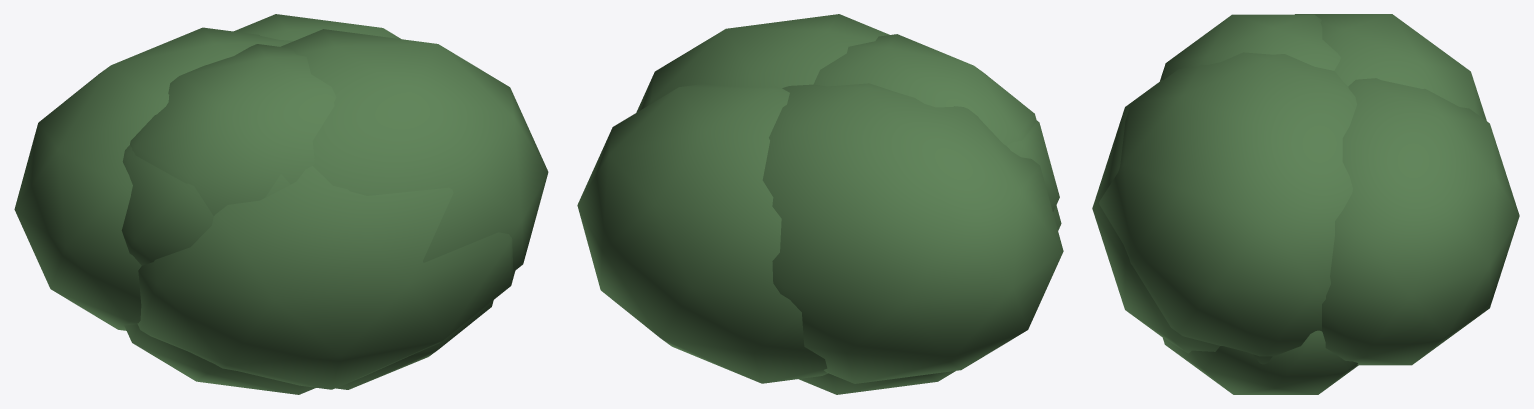
Rendered from bush_v6.glb.
3 renders of one model, left to right at view 1: azimuth 30°, elevation 25°; view 2: azimuth 150°, elevation 25°; view 3: azimuth 270°, elevation 25°, orthographic. The views are drawn at different scales.
Visible parts, largest first — view 1: BushLobe_8, BushLobe_4, BushLobe_2, BushLobe_6, BushLobe_5, BushLobe_0, BushLobe_10, BushLobe_1; view 2: BushLobe_2, BushLobe_10, BushLobe_4, BushLobe_6, BushLobe_0, BushLobe_5; view 3: BushLobe_4, BushLobe_10, BushLobe_2, BushLobe_1, BushLobe_6, BushLobe_8.
Boxes of the visible parts, <box> form: BushLobe_8: <box>137,166,515,389</box>; BushLobe_4: <box>280,29,548,271</box>; BushLobe_2: <box>14,27,293,330</box>; BushLobe_6: <box>130,44,336,215</box>; BushLobe_5: <box>121,145,290,265</box>; BushLobe_0: <box>124,324,315,394</box>; BushLobe_10: <box>233,14,401,40</box>; BushLobe_1: <box>336,300,493,389</box>; BushLobe_2: <box>762,83,1063,383</box>; BushLobe_10: <box>577,83,828,383</box>; BushLobe_4: <box>636,14,889,112</box>; BushLobe_6: <box>813,34,1036,145</box>; BushLobe_0: <box>798,371,955,394</box>; BushLobe_5: <box>1007,120,1059,211</box>; BushLobe_4: <box>1099,52,1356,356</box>; BushLobe_10: <box>1322,78,1519,365</box>; BushLobe_2: <box>1295,14,1486,120</box>; BushLobe_1: <box>1163,330,1358,394</box>; BushLobe_6: <box>1160,14,1340,80</box>; BushLobe_8: <box>1092,80,1272,364</box>.
Size of the model in its own units: 2.08 by 1.52 by 1.85.
